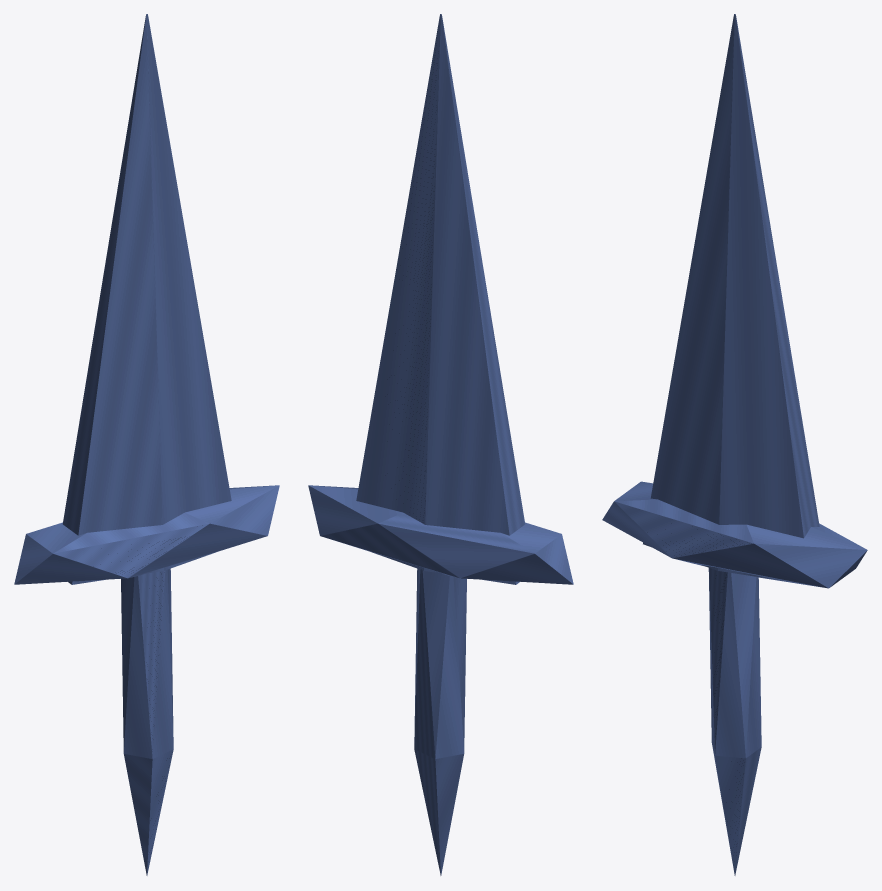
The model's file is sharp.glb.
3 renders of one model, left to right at view 1: azimuth 30°, elevation 25°; view 2: azimuth 150°, elevation 25°; view 3: azimuth 330°, elevation 25°, orthographic.
Visible parts, largest first — view 1: gear_sharp; view 2: gear_sharp; view 3: gear_sharp.
Boxes of the visible parts, left/top/right/bottom form: gear_sharp: left=14, top=14, right=279, bottom=875; gear_sharp: left=308, top=14, right=573, bottom=875; gear_sharp: left=602, top=14, right=867, bottom=875.
Size of the model in its own units: 0.3578 by 1.11 by 0.1021.
Materials: 1 (1 with a texture image).
